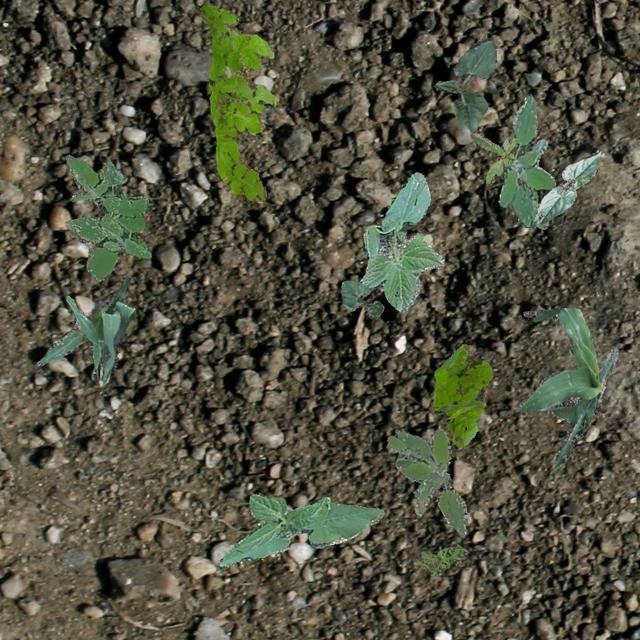crop: (516, 306, 618, 466), (218, 494, 384, 566), (358, 172, 442, 310), (36, 272, 134, 382), (432, 36, 496, 132), (532, 150, 600, 227), (340, 280, 382, 318)
weed: (198, 3, 276, 202), (64, 153, 150, 280), (386, 428, 466, 534), (498, 94, 554, 228), (432, 342, 492, 446), (470, 130, 516, 184), (412, 544, 466, 574)
